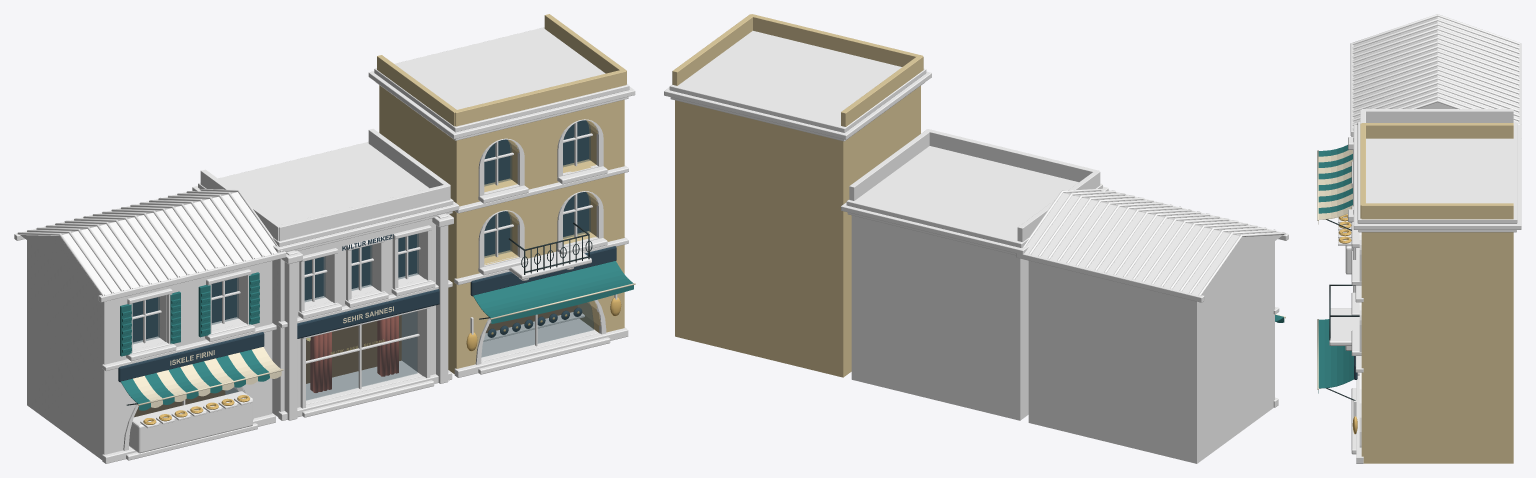
File: DistrictBlock_3_1.glb
The picture shows the model from 3 angles, left to right: view 1: azimuth 30°, elevation 25°; view 2: azimuth 150°, elevation 25°; view 3: azimuth 270°, elevation 25°; orthographic projection. The views are drawn at different scales.
Parts seen in each view (by area): view 1: RK_DistrictBlock_3_1_LC_Lime, RK_DistrictBlock_3_1_LC_Ochre, RK_DistrictBlock_3_1_LC_Cream, RK_DistrictBlock_3_1_LC_Glass, RK_DistrictBlock_3_1_LC_Tile, RK_DistrictBlock_3_1_LC_Ink, RK_DistrictBlock_3_1_LC_Brick, RK_DistrictBlock_3_1_LC_Wood, RK_DistrictBlock_3_1_LC_Teal, RK_DistrictBlock_3_1_LC_Canvas, RK_DistrictBlock_3_1_LC_Interior, RK_DistrictBlock_3_1_LC_Red (+2 smaller); view 2: RK_DistrictBlock_3_1_LC_Ochre, RK_DistrictBlock_3_1_LC_Cream, RK_DistrictBlock_3_1_LC_Brick, RK_DistrictBlock_3_1_LC_Lime, RK_DistrictBlock_3_1_LC_Tile, RK_DistrictBlock_3_1_LC_Wood; view 3: RK_DistrictBlock_3_1_LC_Ochre, RK_DistrictBlock_3_1_LC_Lime, RK_DistrictBlock_3_1_LC_Tile, RK_DistrictBlock_3_1_LC_Teal, RK_DistrictBlock_3_1_LC_Brick, RK_DistrictBlock_3_1_LC_Canvas, RK_DistrictBlock_3_1_LC_Wood, RK_DistrictBlock_3_1_LC_Gold, RK_DistrictBlock_3_1_LC_Iron.
Part boxes in pixels (x1,y1,x2,y2): RK_DistrictBlock_3_1_LC_Lime: (102,27,635,463); RK_DistrictBlock_3_1_LC_Ochre: (377,14,626,373); RK_DistrictBlock_3_1_LC_Cream: (27,240,272,459); RK_DistrictBlock_3_1_LC_Glass: (133,120,593,416); RK_DistrictBlock_3_1_LC_Tile: (17,189,282,295); RK_DistrictBlock_3_1_LC_Ink: (118,120,616,382); RK_DistrictBlock_3_1_LC_Brick: (200,128,450,416); RK_DistrictBlock_3_1_LC_Wood: (14,122,617,453); RK_DistrictBlock_3_1_LC_Teal: (120,261,633,410); RK_DistrictBlock_3_1_LC_Canvas: (133,283,635,407); RK_DistrictBlock_3_1_LC_Interior: (134,305,577,416); RK_DistrictBlock_3_1_LC_Red: (310,316,398,392); RK_DistrictBlock_3_1_LC_Ochre: (672,14,923,377); RK_DistrictBlock_3_1_LC_Cream: (1028,241,1274,463); RK_DistrictBlock_3_1_LC_Brick: (849,129,1100,420); RK_DistrictBlock_3_1_LC_Lime: (664,31,1279,407); RK_DistrictBlock_3_1_LC_Tile: (1023,188,1285,295); RK_DistrictBlock_3_1_LC_Wood: (1016,190,1288,302); RK_DistrictBlock_3_1_LC_Ochre: (1360,123,1513,463); RK_DistrictBlock_3_1_LC_Lime: (1329,122,1521,463); RK_DistrictBlock_3_1_LC_Tile: (1352,14,1519,130); RK_DistrictBlock_3_1_LC_Teal: (1318,145,1353,393); RK_DistrictBlock_3_1_LC_Brick: (1360,109,1513,123); RK_DistrictBlock_3_1_LC_Canvas: (1317,150,1352,389); RK_DistrictBlock_3_1_LC_Wood: (1345,43,1521,417); RK_DistrictBlock_3_1_LC_Gold: (1338,214,1357,434); RK_DistrictBlock_3_1_LC_Iron: (1326,219,1359,400).
Size of the model in its own units: 19.17 by 9.02 by 6.44.
